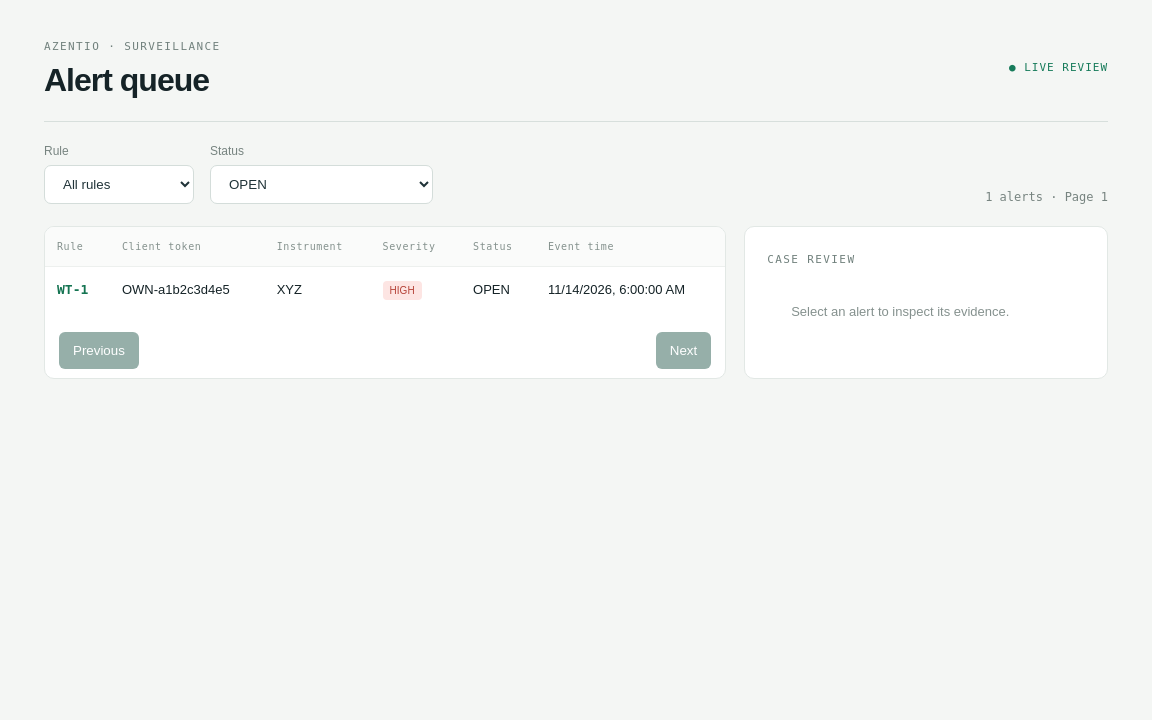
Test: alert queue › blocks closing without a sufficiently long note
Click the text "OWN-a1b2c3d4e5". click: (187, 289)
box: [110,266,265,312]
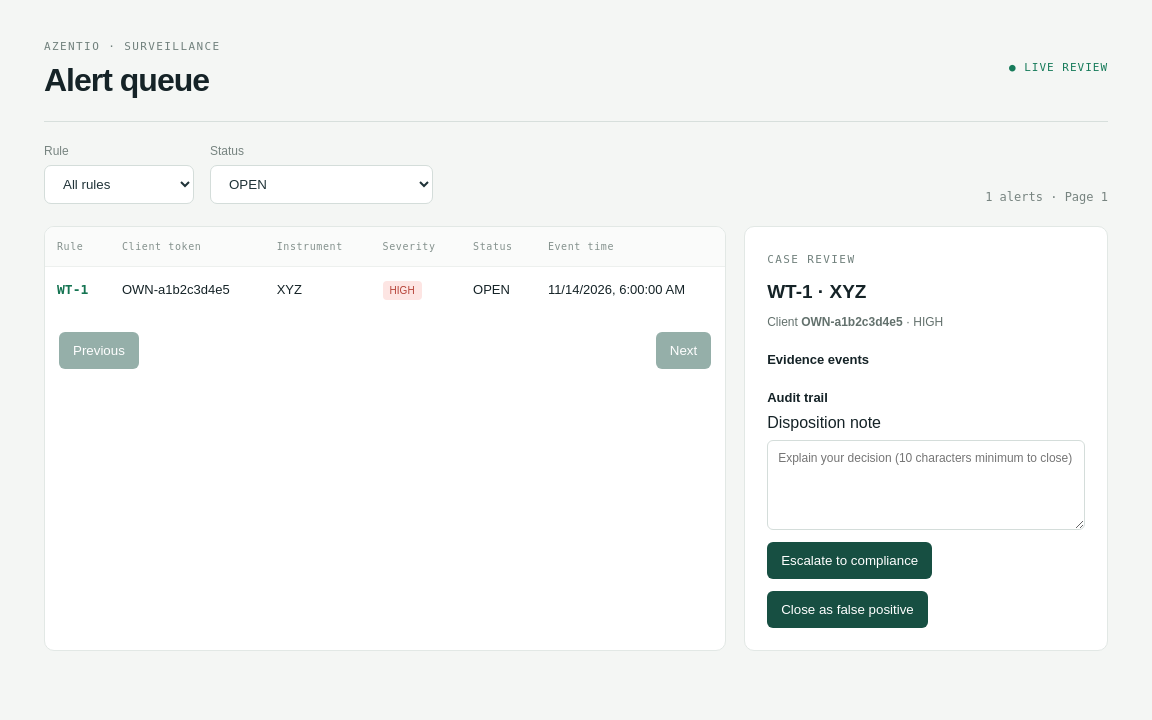
Result: the heading "Evidence events" is shown at [767,352,869,367]
Click the button "Close as false positive". click: (848, 610)
box: [767,591,928,628]
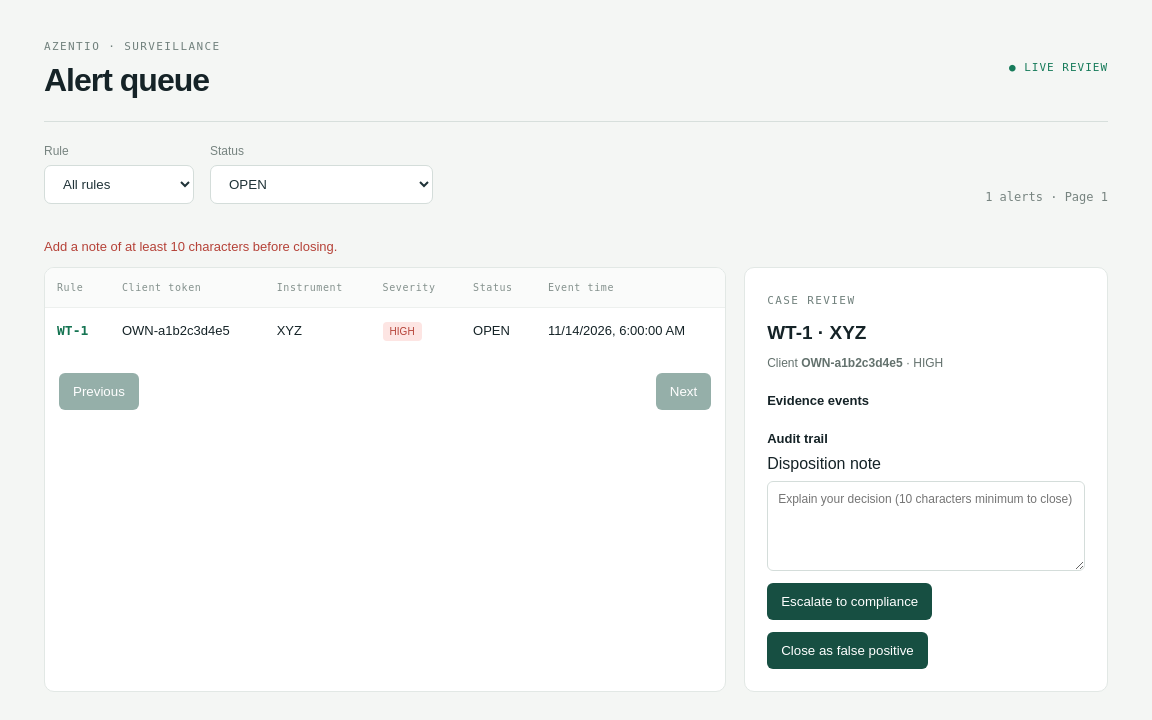
Result: the message shows "at least 10 characters" at [44,239,337,254]
